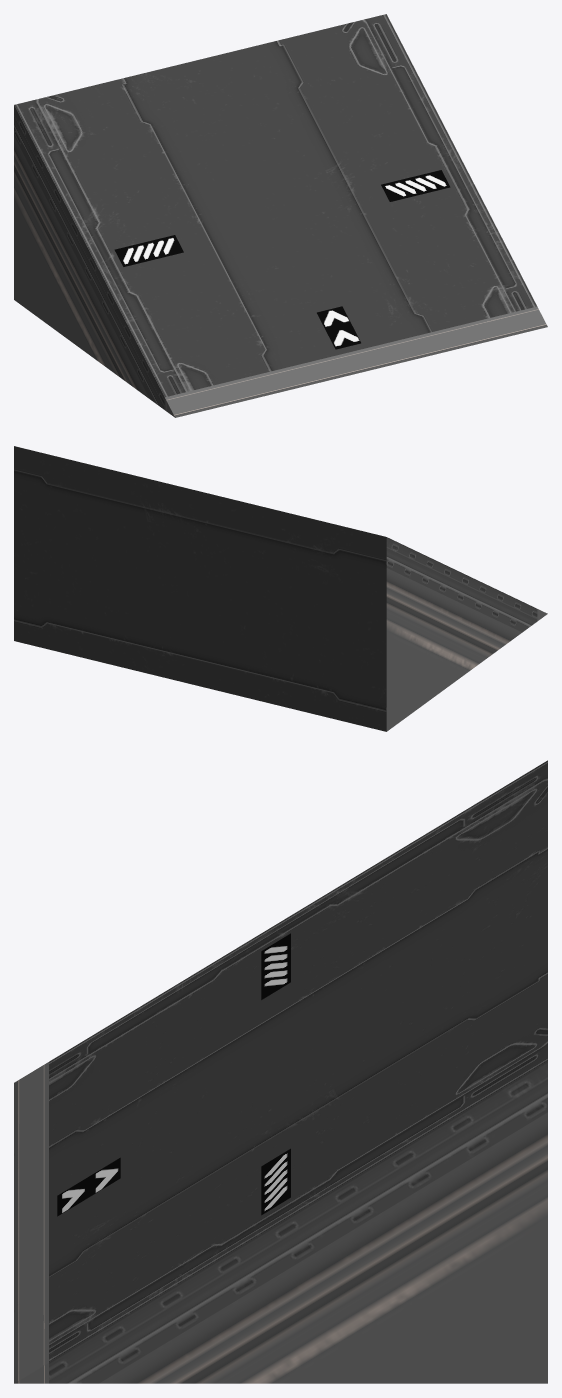
Rendered from Platform_Ramp_2Short.gltf.
3 views of the same model, one above another, from view 1: azimuth 30°, elevation 25°; view 2: azimuth 150°, elevation 25°; view 3: azimuth 270°, elevation 25° (orthographic). The views are drawn at different scales.
Visible parts, largest first — view 1: Platform_Ramp_2Short; view 2: Platform_Ramp_2Short; view 3: Platform_Ramp_2Short.
Part boxes in pixels (x1=…): Platform_Ramp_2Short: x1=14, y1=14, x2=547, y2=417; Platform_Ramp_2Short: x1=14, y1=446, x2=547, y2=731; Platform_Ramp_2Short: x1=14, y1=760, x2=547, y2=1383.
Size of the model in its own units: 2 by 1 by 1.5.
Materials: 3 (3 with a texture image).
